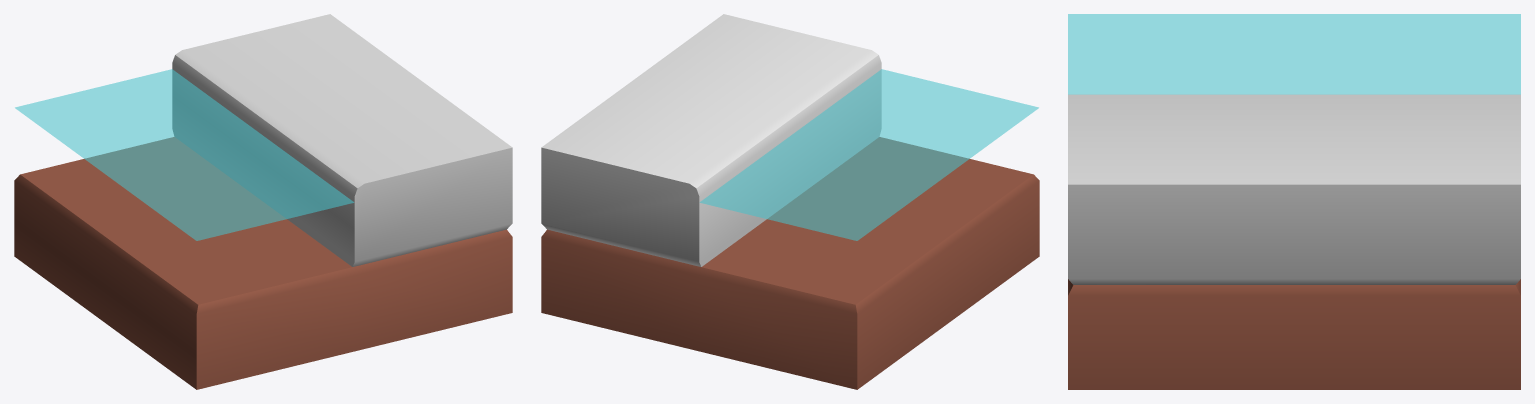
The model's file is square_snow_waterStraight_noSides.fbx.
The picture shows the model from 3 angles, left to right: view 1: azimuth 30°, elevation 25°; view 2: azimuth 150°, elevation 25°; view 3: azimuth 270°, elevation 25°; orthographic projection. The views are drawn at different scales.
Parts seen in each view (by area): view 1: square_snow_waterStraight_noSides; view 2: square_snow_waterStraight_noSides; view 3: square_snow_waterStraight_noSides.
Part boxes in pixels (left/top/right/bottom): square_snow_waterStraight_noSides: left=14, top=14, right=512, bottom=389; square_snow_waterStraight_noSides: left=541, top=14, right=1039, bottom=389; square_snow_waterStraight_noSides: left=1068, top=14, right=1520, bottom=389.
Size of the model in its own units: 2 by 1 by 2.
